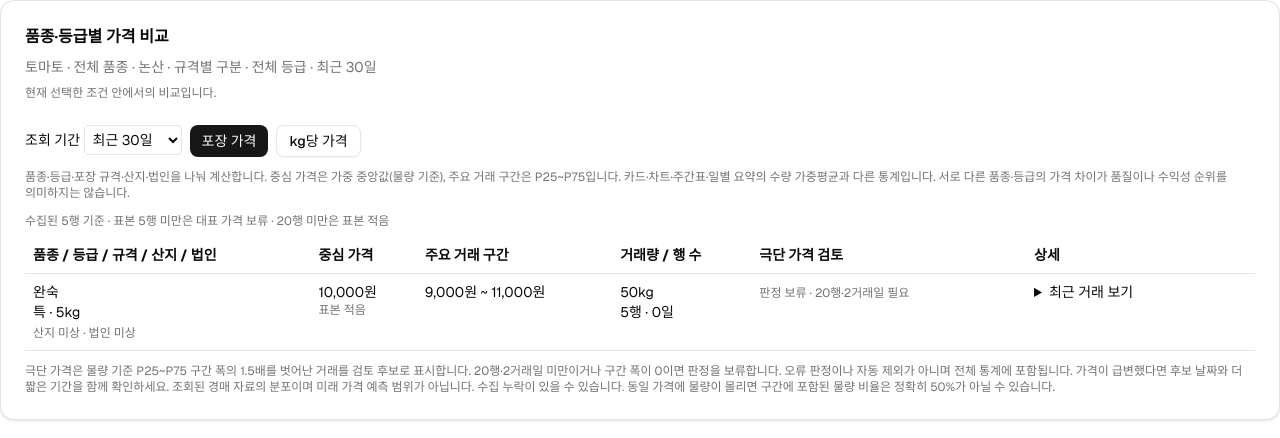
Test: renders a separate specification and converts its distribution to kg prices
The image size is (1280, 438).
Expected: the text "완숙" is shown, [33,283,59,301]
Expected: the text "10,000원" is shown, [318,283,377,301]
Click the button "kg당 가격" at (319, 141), box [276,125,361,157]
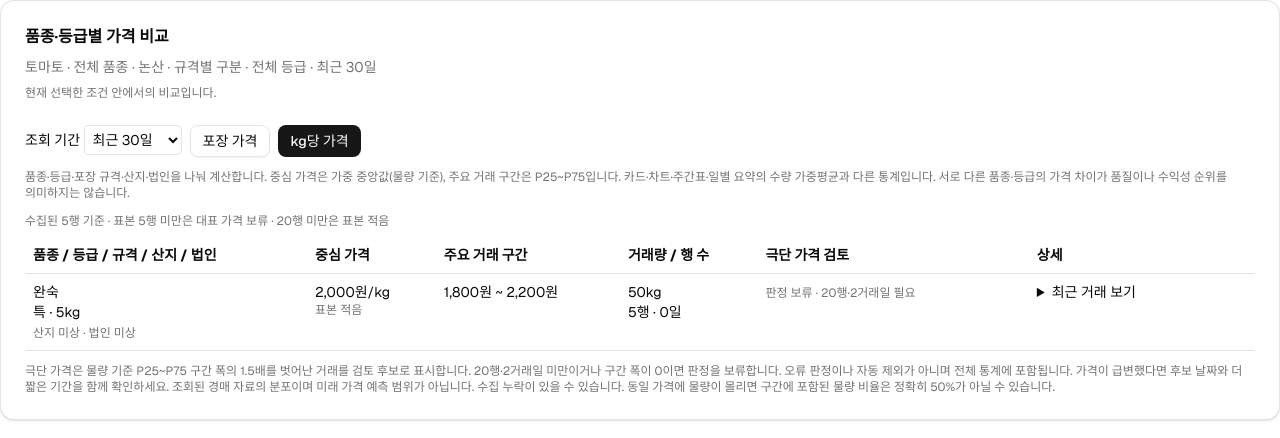
Expected: the text "2,000원/kg" is shown, [315,283,390,301]
Expected: the text "1,800원 ~ 2,200원" is shown, [436,274,620,350]
